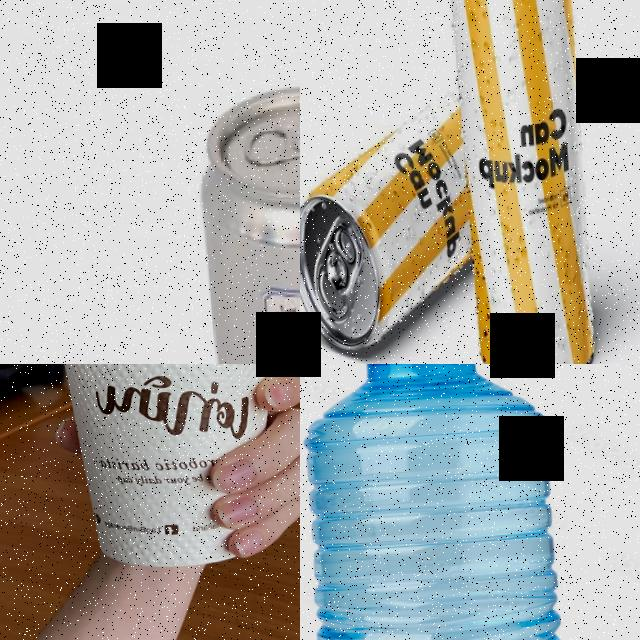bottle: (300, 364, 574, 640)
can: (446, 0, 599, 364), (300, 90, 478, 358), (189, 77, 300, 364)
cup: (36, 364, 300, 576)
